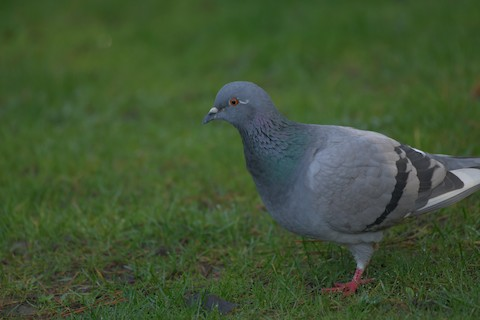pigeon: (202, 81, 469, 300)
